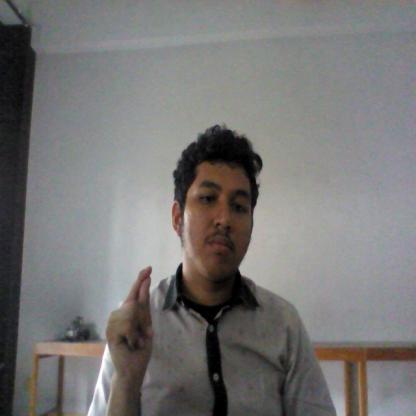R: (99, 264, 164, 382)
